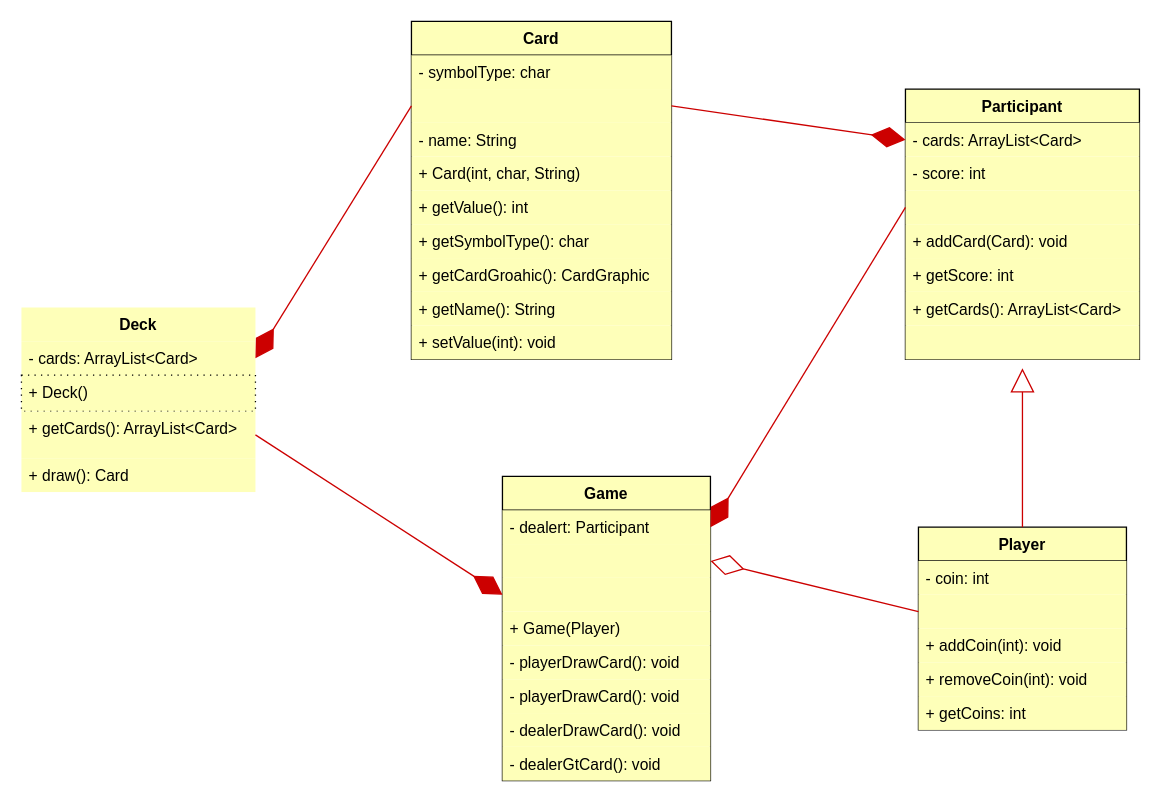
The diagram is 1161 pixels wide and 802 high, and some of its shapes have lost their labels. The centre of each missing label's shape, as x and y in pixels:
"+ isSoft(): bool" goes at (1022,342).
"+ Participant()" goes at (1022,207).
"+ Player()" goes at (1022,611).
"- cardGraphic: CardGraphic" goes at (541,105).
"- deck: Deck" goes at (606,594).
"- player: Player" goes at (606,560).
